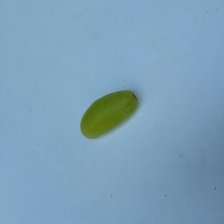grapes: (29, 33, 183, 202)
